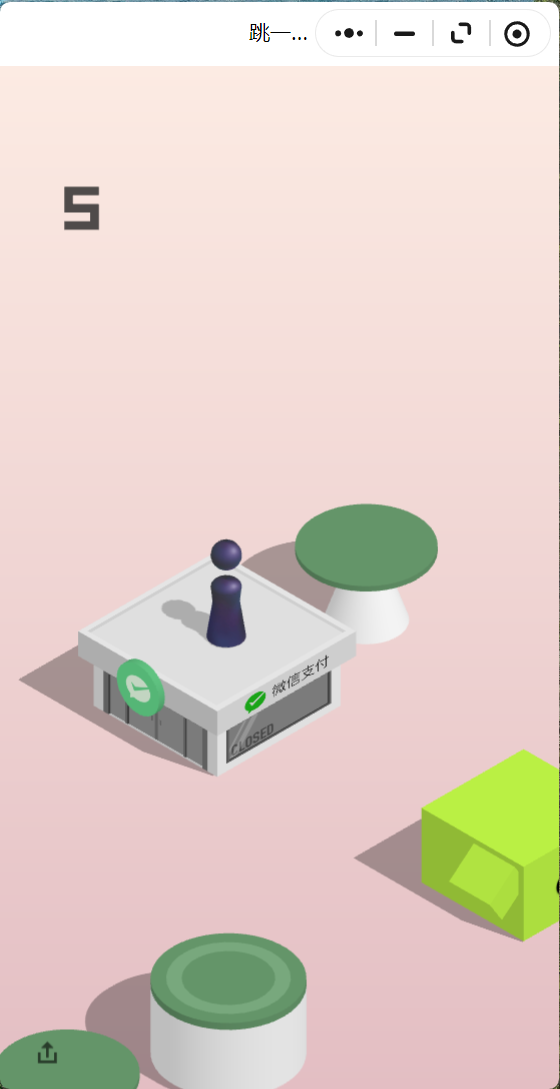piece: (211, 539, 241, 643)
target: (295, 504, 438, 585)
